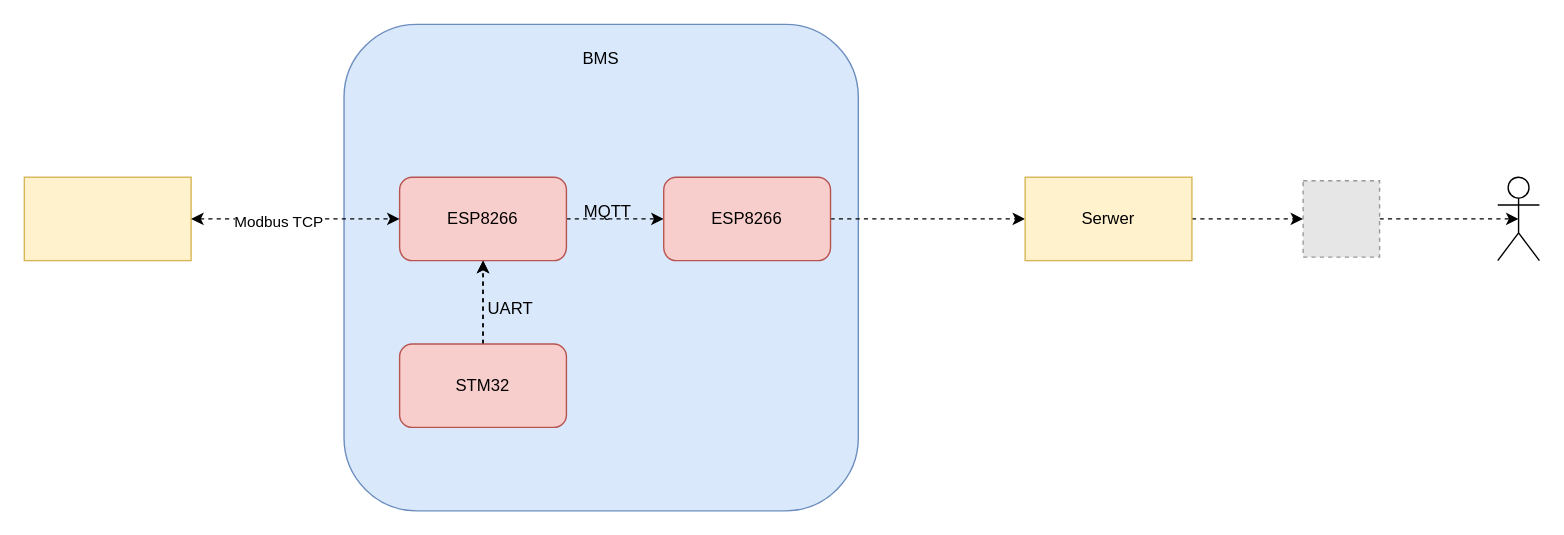
This 1564x535 diagram has some shape labels left out. Grey dashed boxes stand in for pictures. The centre of each missing label's shape, as x and y in pixels:
"Actor" goes at point (1517, 218).
"Sterownik przemysłowy" goes at point (107, 218).
